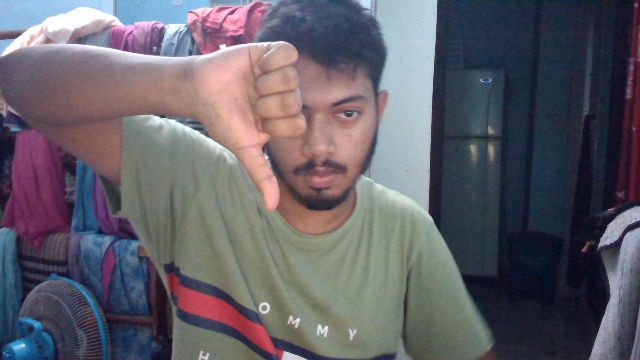no: (189, 44, 317, 217)
